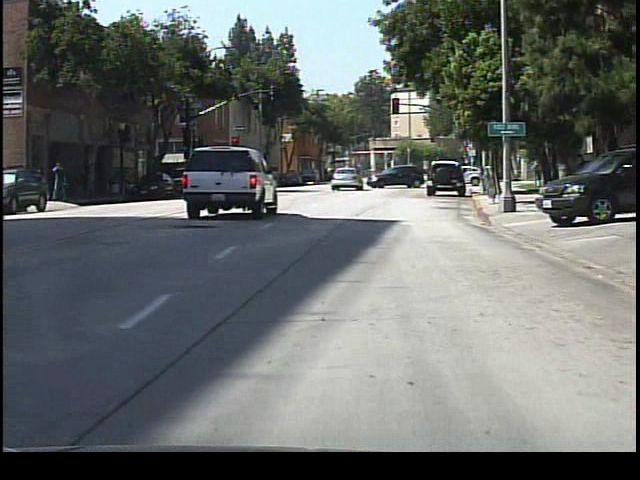person: (51, 157, 75, 205), (531, 158, 547, 190), (325, 162, 343, 188), (480, 155, 496, 182)
